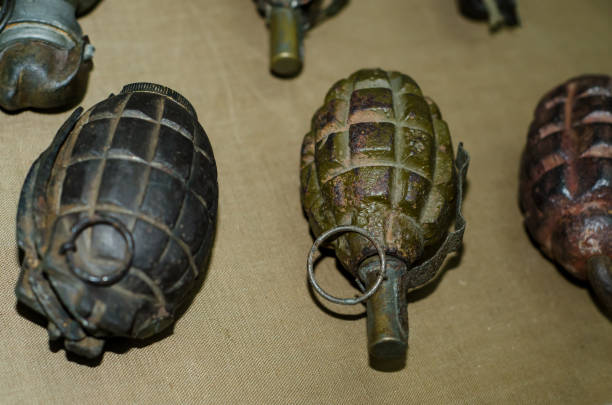e1: (13, 82, 226, 367), (297, 68, 476, 370)
